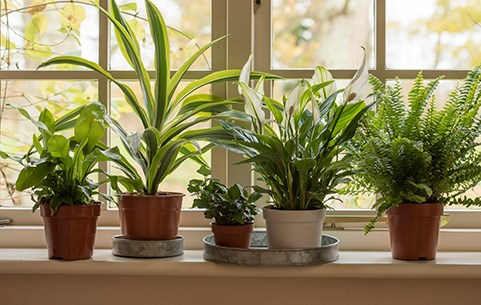plants: (109, 8, 204, 238), (371, 75, 481, 258), (11, 104, 113, 258), (227, 93, 369, 180), (266, 182, 335, 245), (205, 177, 263, 242)
